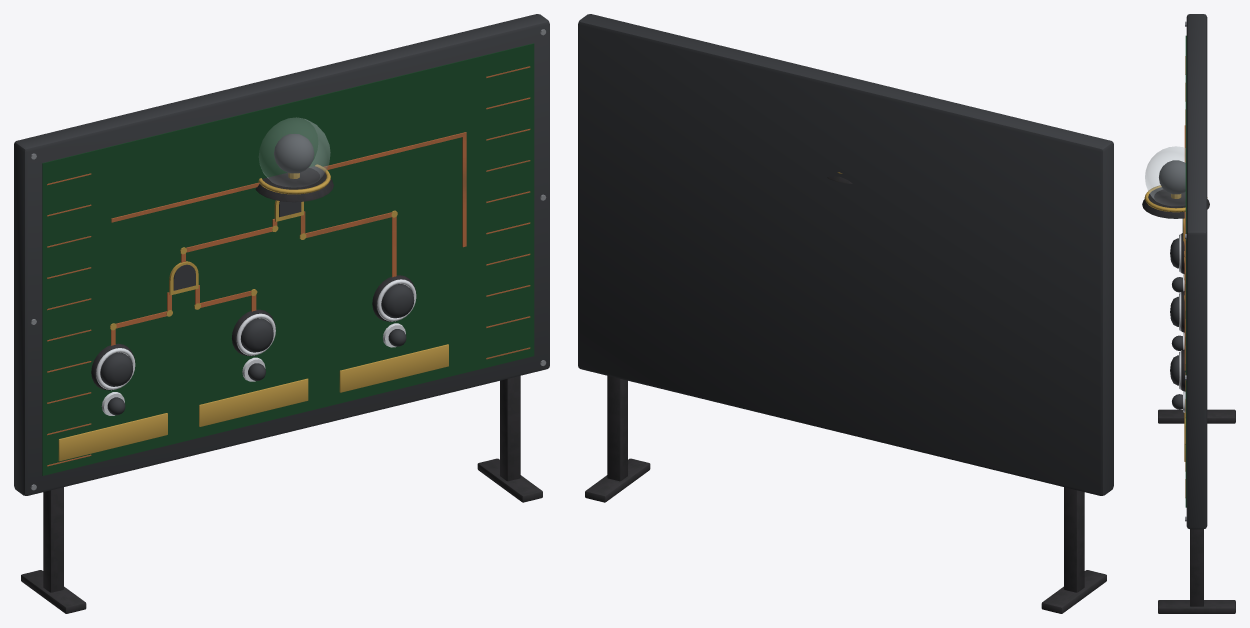
The model's file is switch_panel_logic.glb.
3 renders of one model, left to right at view 1: azimuth 30°, elevation 25°; view 2: azimuth 150°, elevation 25°; view 3: azimuth 270°, elevation 25°, orthographic. The views are drawn at different scales.
Visible parts, largest first — view 1: board, outGlass, outCore, swCap1, swCap2, swCap0; view 2: board; view 3: board, outGlass, outCore, swCap1, swCap0, swCap2, swLamp2.
Boxes of the visible parts, left/top/right/bottom form: board: left=14, top=14, right=549, bottom=613; outGlass: left=259, top=117, right=330, bottom=187; outCore: left=274, top=133, right=314, bottom=173; swCap1: left=241, top=318, right=273, bottom=352; swCap2: left=381, top=284, right=414, bottom=318; swCap0: left=100, top=352, right=132, bottom=386; board: left=578, top=14, right=1113, bottom=613; board: left=1142, top=14, right=1235, bottom=613; outGlass: left=1145, top=146, right=1185, bottom=205; outCore: left=1159, top=160, right=1185, bottom=194; swCap1: left=1170, top=296, right=1178, bottom=326; swCap0: left=1170, top=238, right=1178, bottom=268; swCap2: left=1170, top=355, right=1178, bottom=385; swLamp2: left=1172, top=394, right=1182, bottom=409.
Size of the model in its own units: 3 by 2.5 by 0.5412.
Materials: 9 (4 with a texture image).
